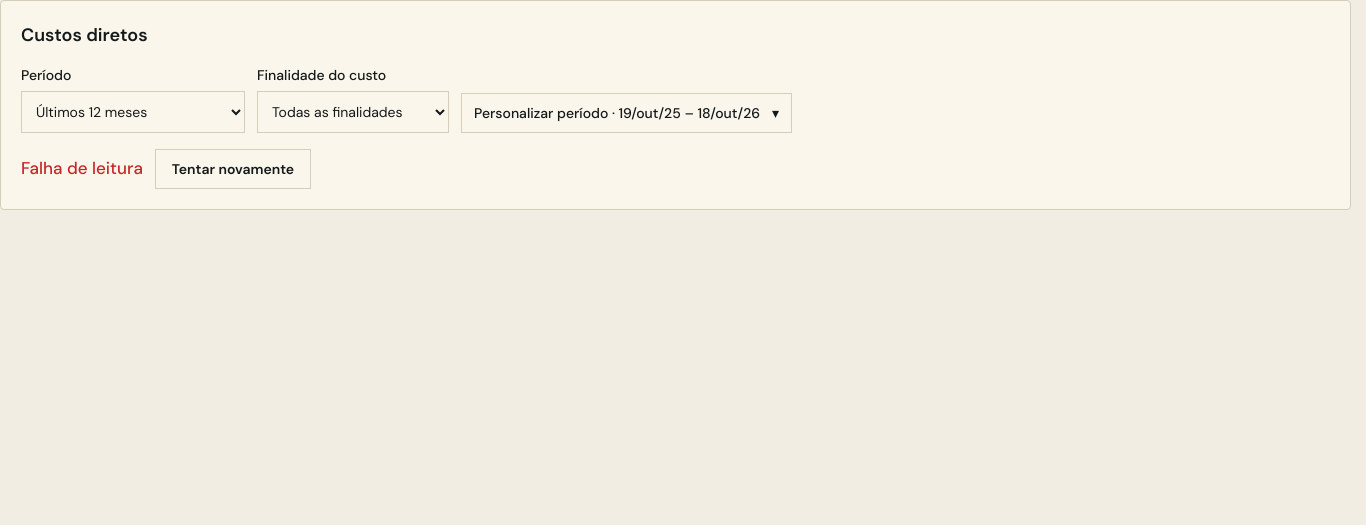
permite repetir consulta com falha sem apresentar vazio ou valor antigo
Expected: the text "Falha de leitura" is shown, [21, 156, 143, 182]
Click the button "Tentar novamente" at x=233, y=169, box [155, 149, 311, 189]
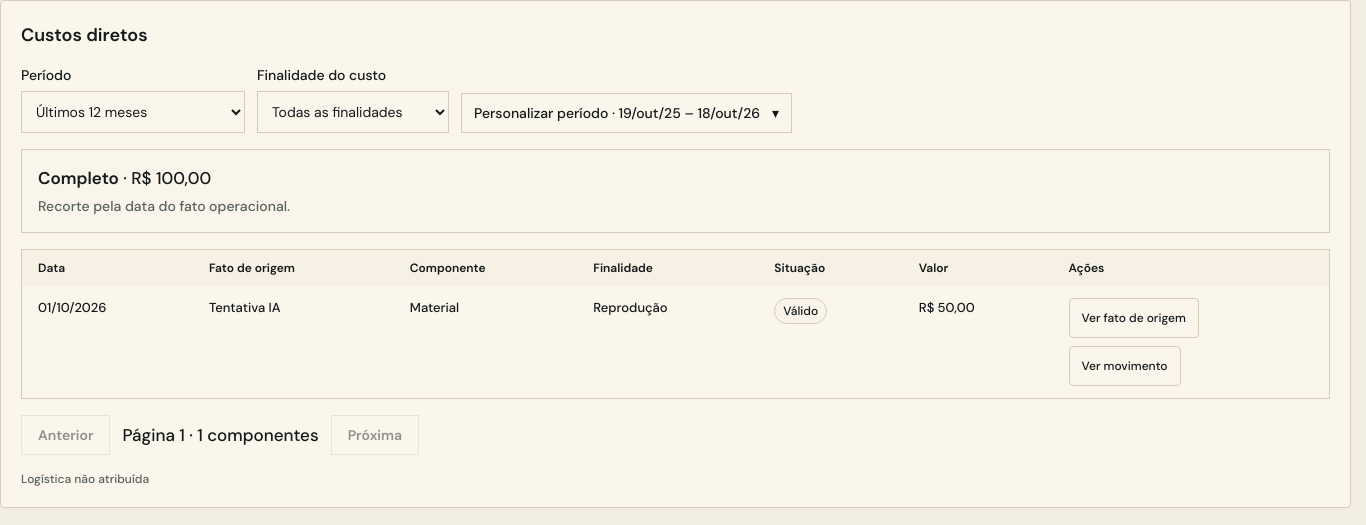
Result: the text "Completo · R$ 100,00" is shown at [38, 167, 211, 189]
Result: the text "Falha de leitura" is gone
